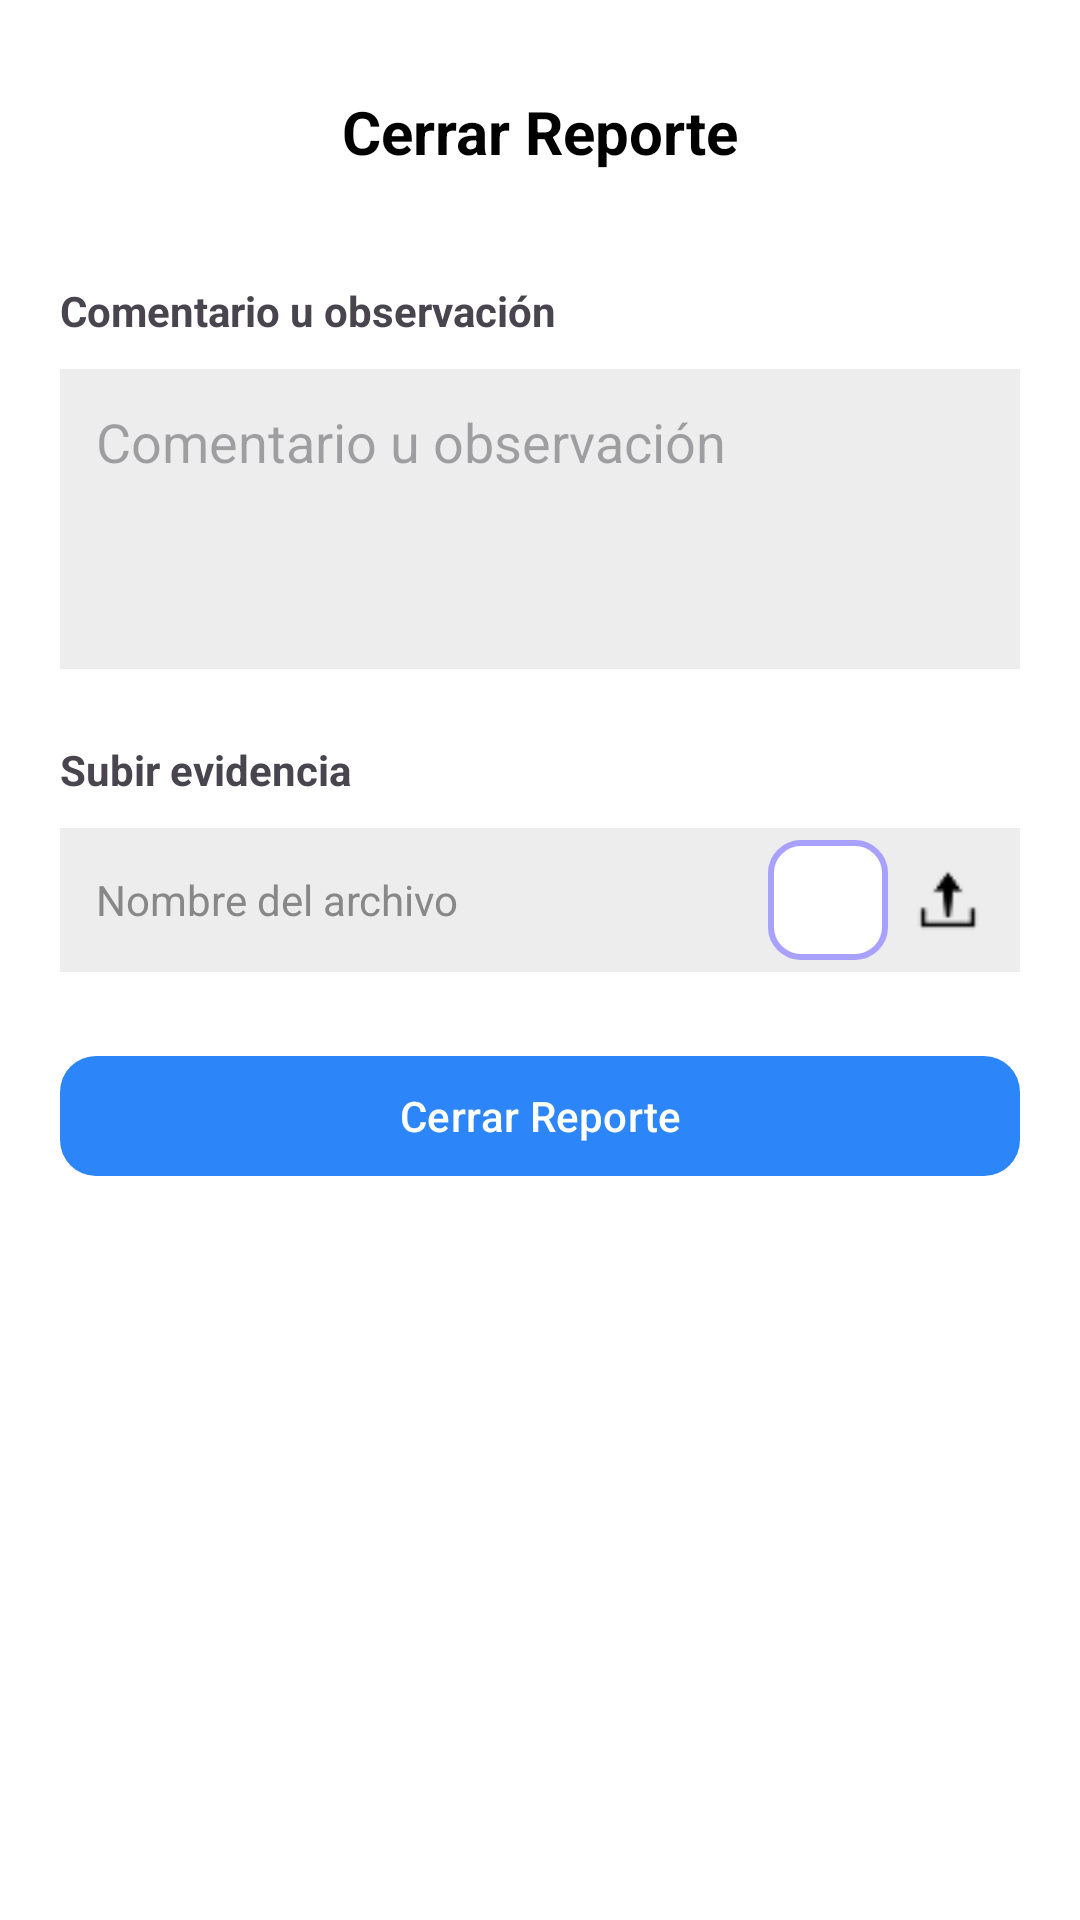

Locate icon controls on the screen. Image size 1080w x 1920h, boxes as (x1, y1, x2, y2).
upload: (920, 872, 976, 928)
